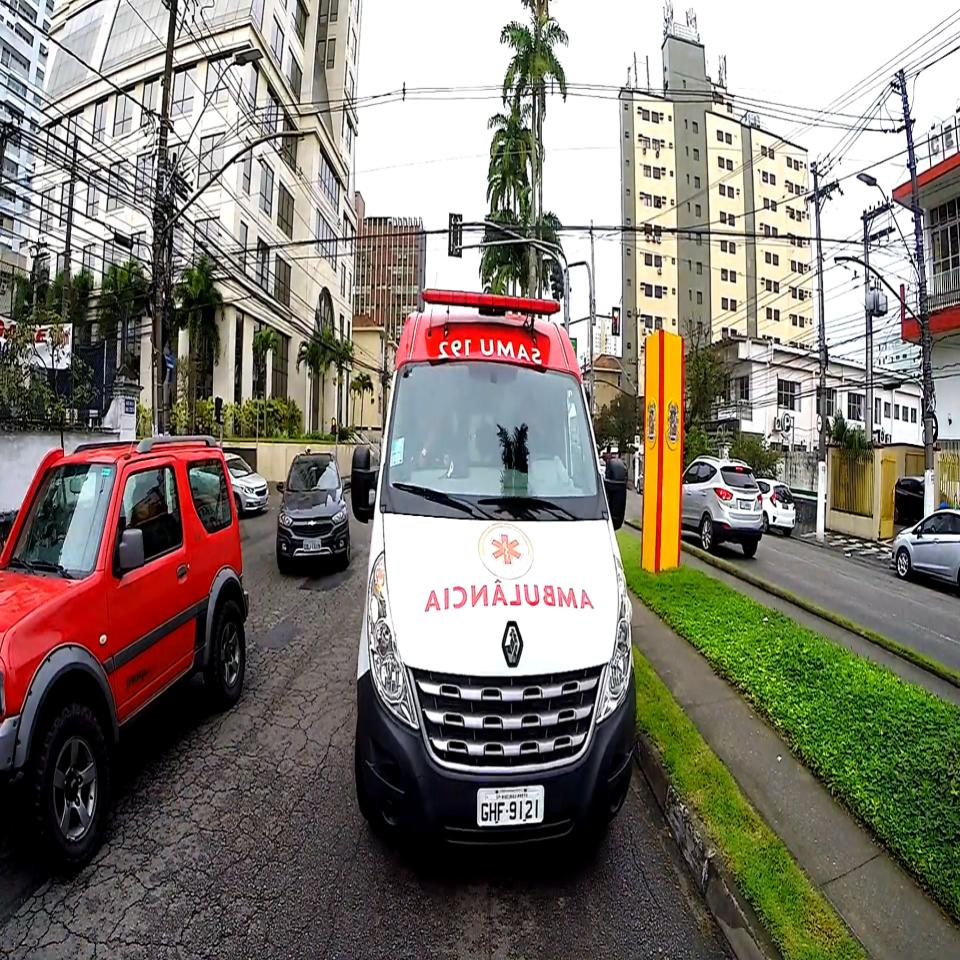bombeiro: (351, 287, 640, 888)
